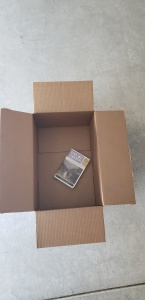innerbox: (33, 114, 103, 207)
outerbox: (2, 83, 134, 242)
product: (57, 150, 85, 186)
